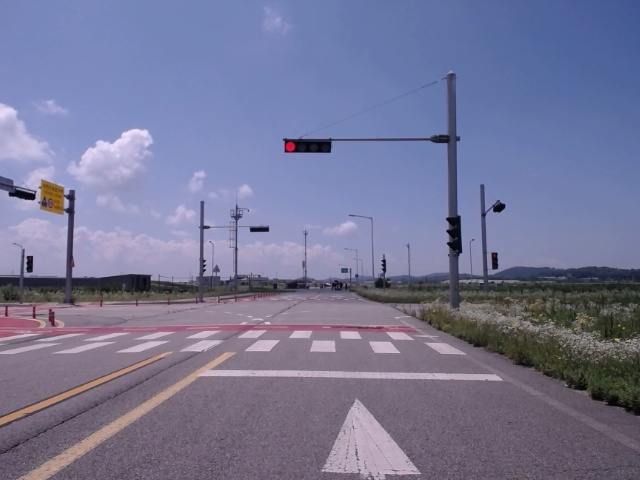red_4: (285, 140, 332, 153)
